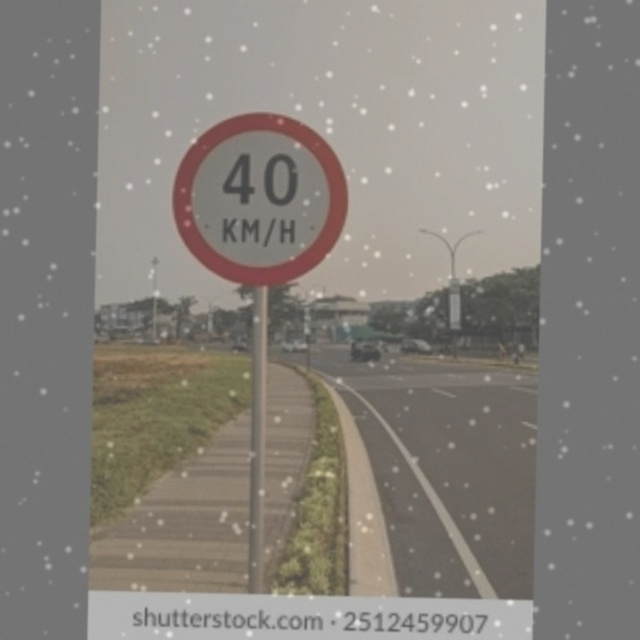Speed_Limit_40: (176, 109, 351, 286)
